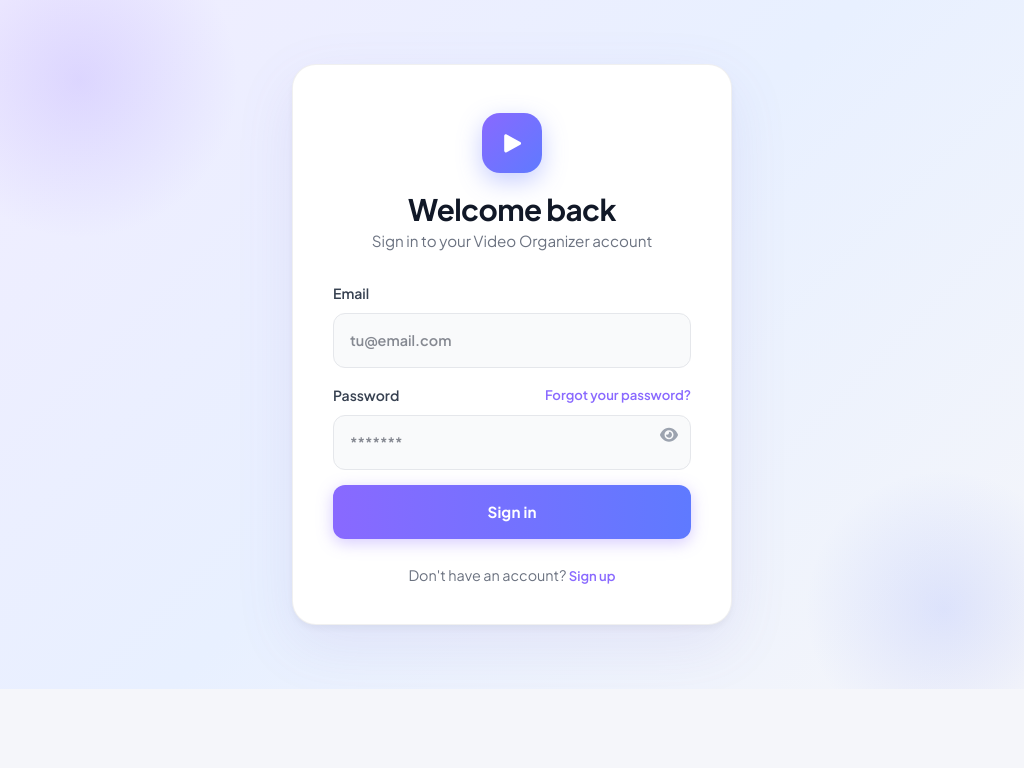
Test: Login component › Show errors and doesnt't fetch if the form is not valid
Type "adsedqw@dawdw.com" into the field labelled "Email". click: (512, 340)
box: [333,313,691,368]
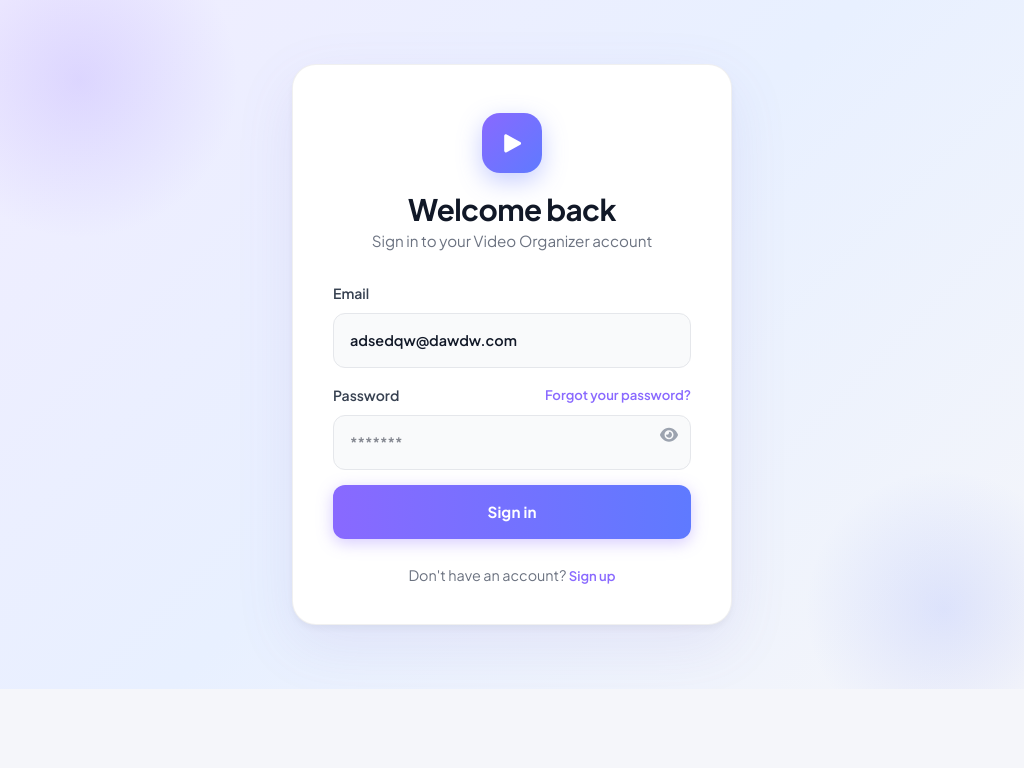
Type "123" into the password field labelled "Password". click: (512, 442)
box: [333,415,691,470]
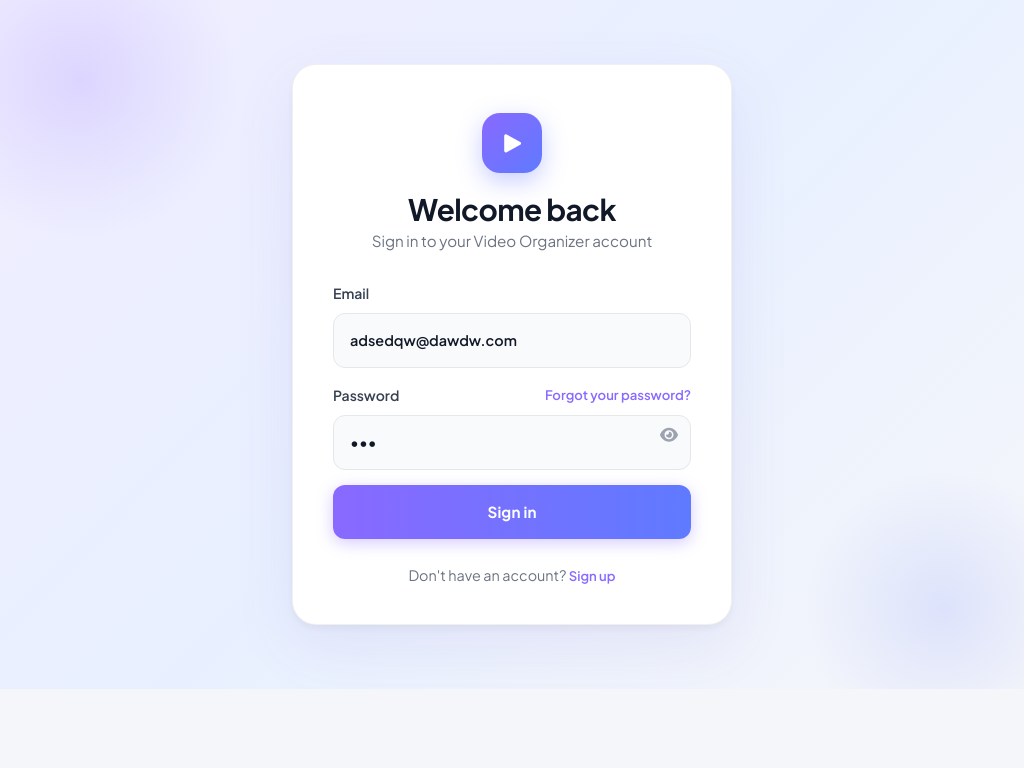
Click the button "Sign in". click: (512, 512)
box: [333,485,691,539]
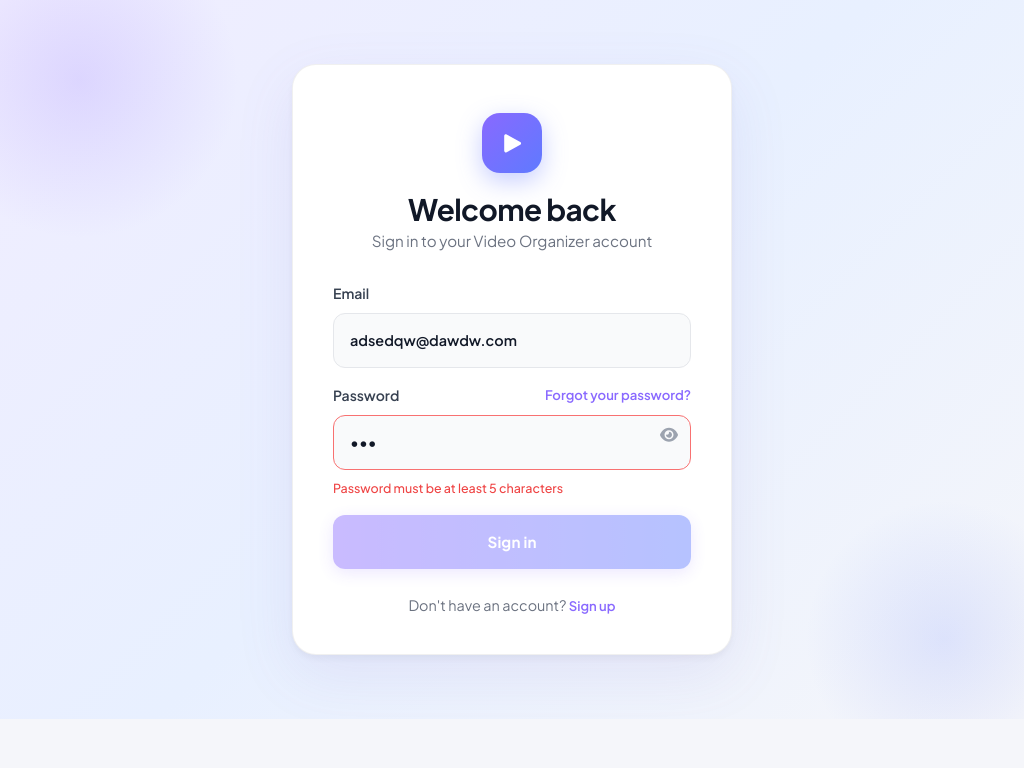
Check: the text "Password must be at least 5 characters" is shown, box [333,480,563,496]
